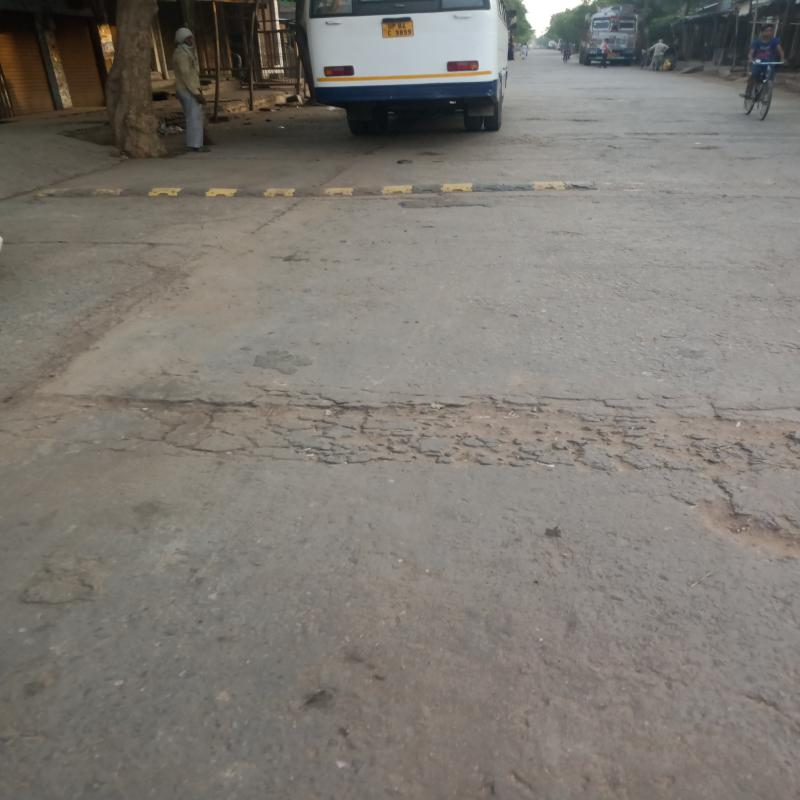bus: (303, 5, 522, 140)
